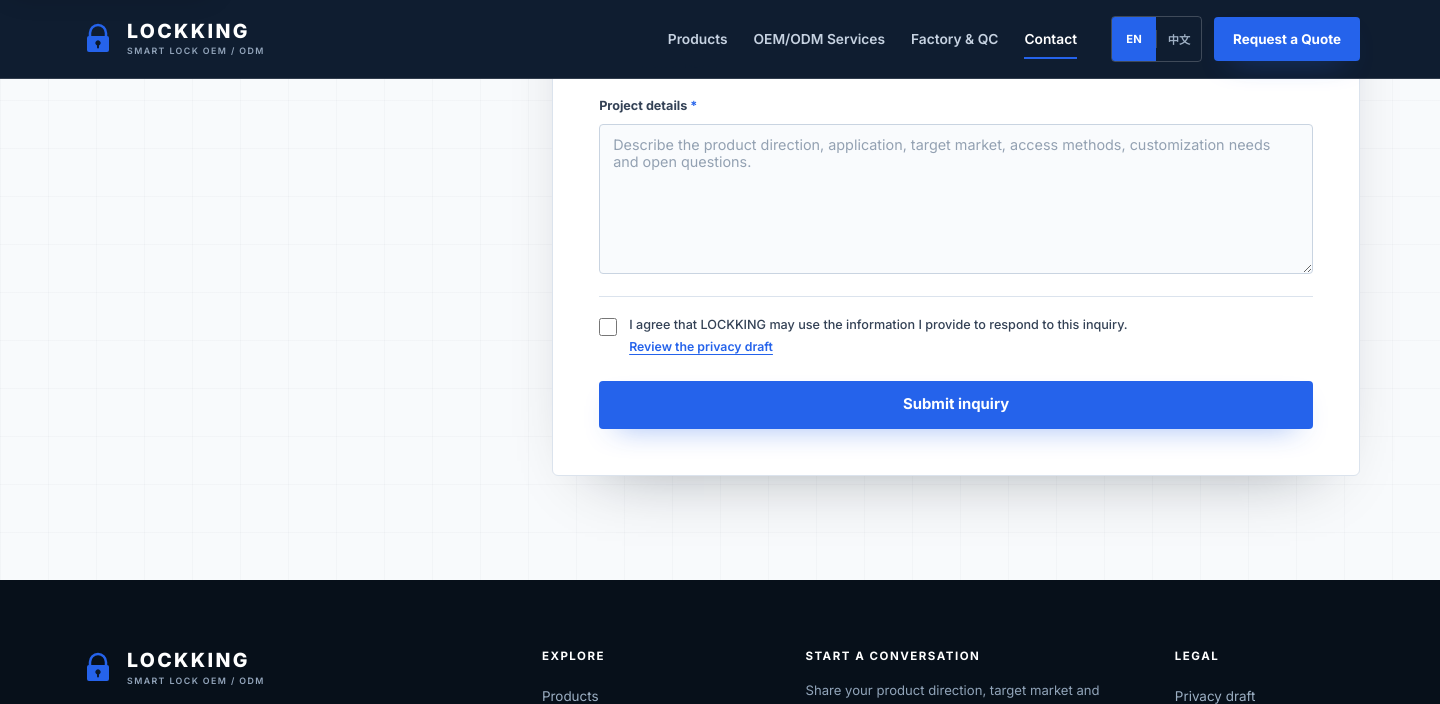
Test: LOCKKING site interactions › validates required inquiry fields before any submission
The width and height of the screenshot is (1440, 704).
(page scrolled)
Click the button "Submit inquiry". click: {"x": 956, "y": 405}
box: [599,381,1313,429]
(page scrolled)
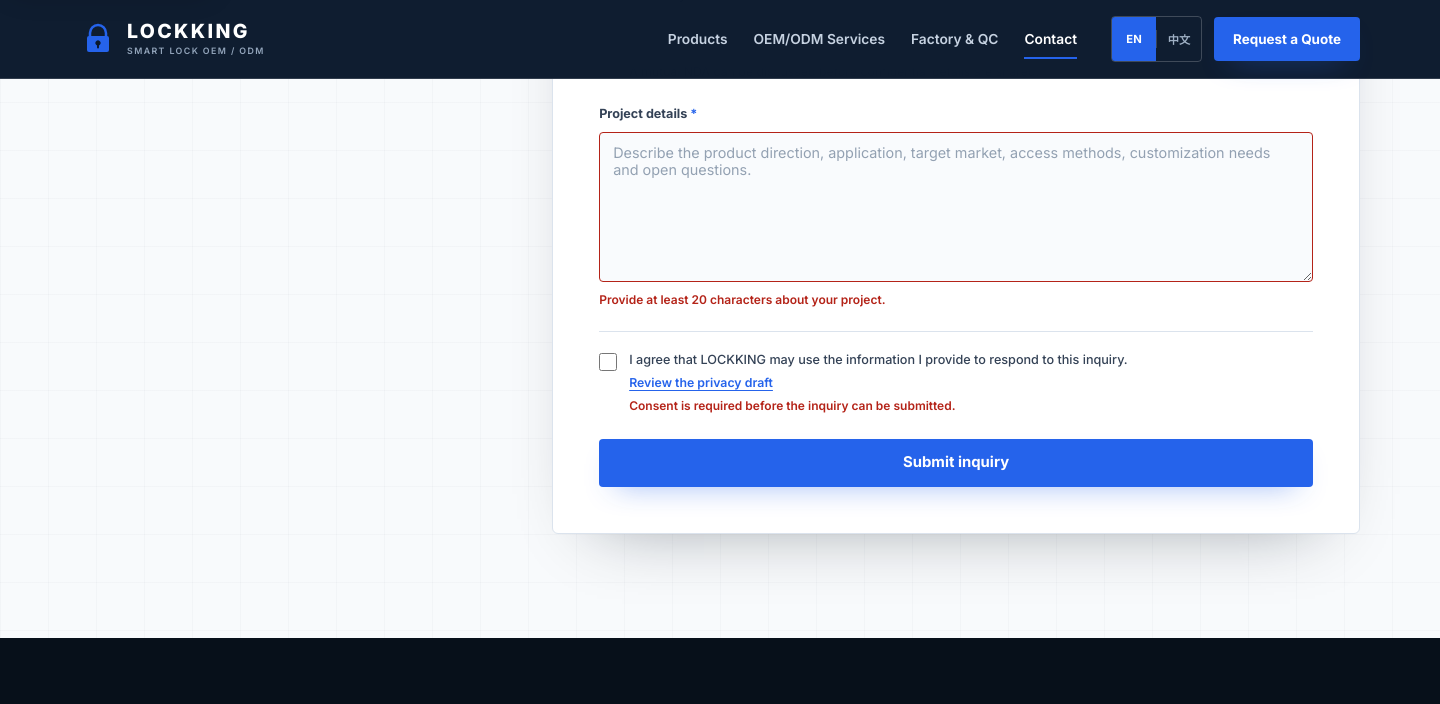
Now the text "Consent is required before the inquiry can be submitted." is shown, box [629,398,956,413]
